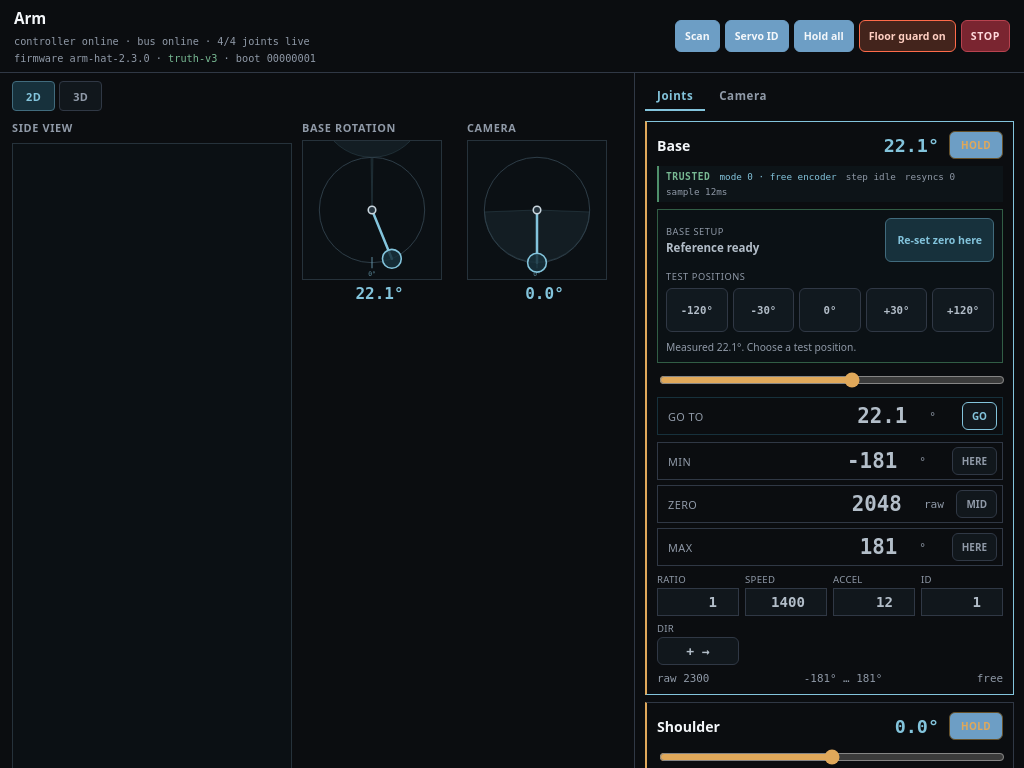
Test: SimpleArm › puts Base homing and repeatable test positions in one self-service control
The image size is (1024, 768).
Expected: the text "Reference ready" is shown, [666,240,759,255]
Expected: the text "Measured 22.1°. Choose a test position." is shown, [666,340,856,354]
Click the button "+120°". click: {"x": 963, "y": 310}
box: [932,288,994,332]
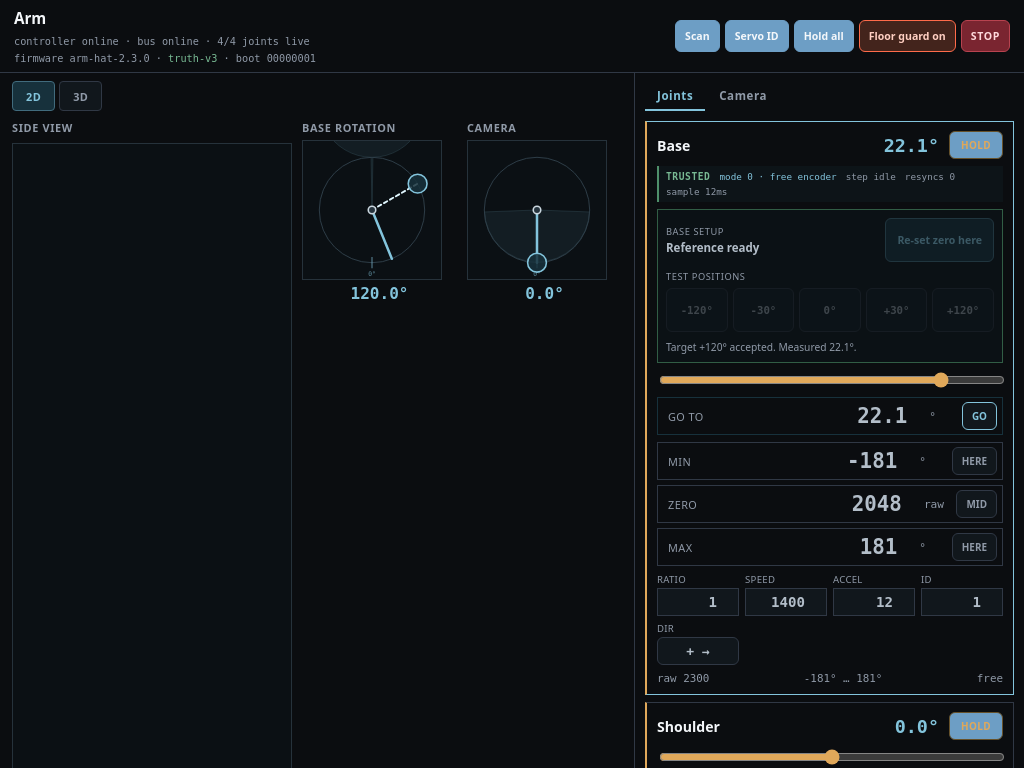
Now the text "Target +120° accepted. Measured 22.1°." is shown, box [666,340,857,354]
